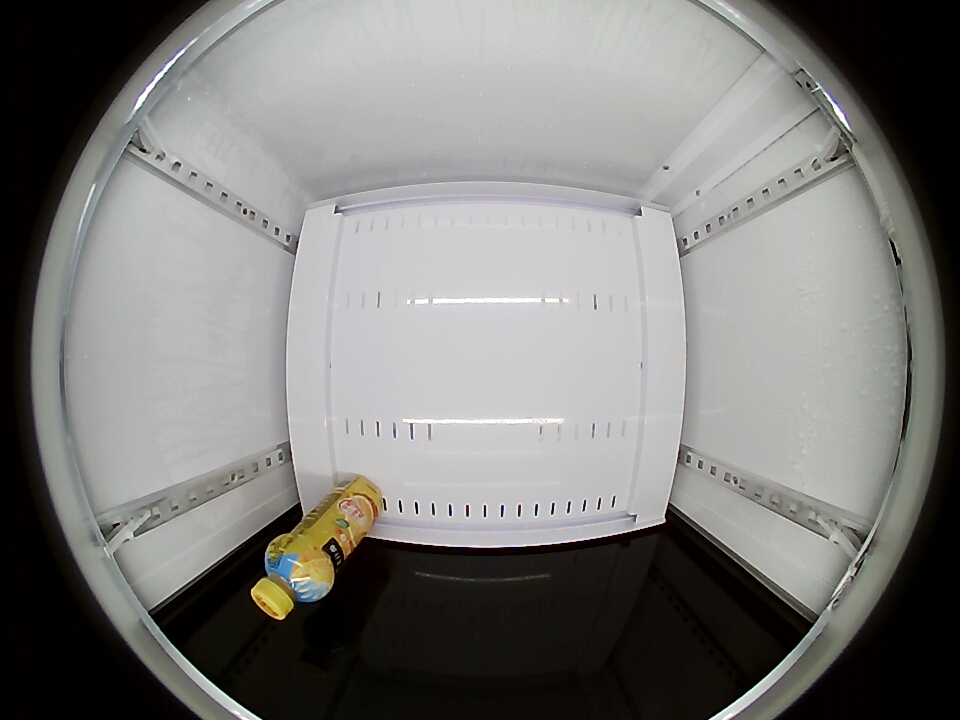guolicheng: (252, 535, 334, 621)
